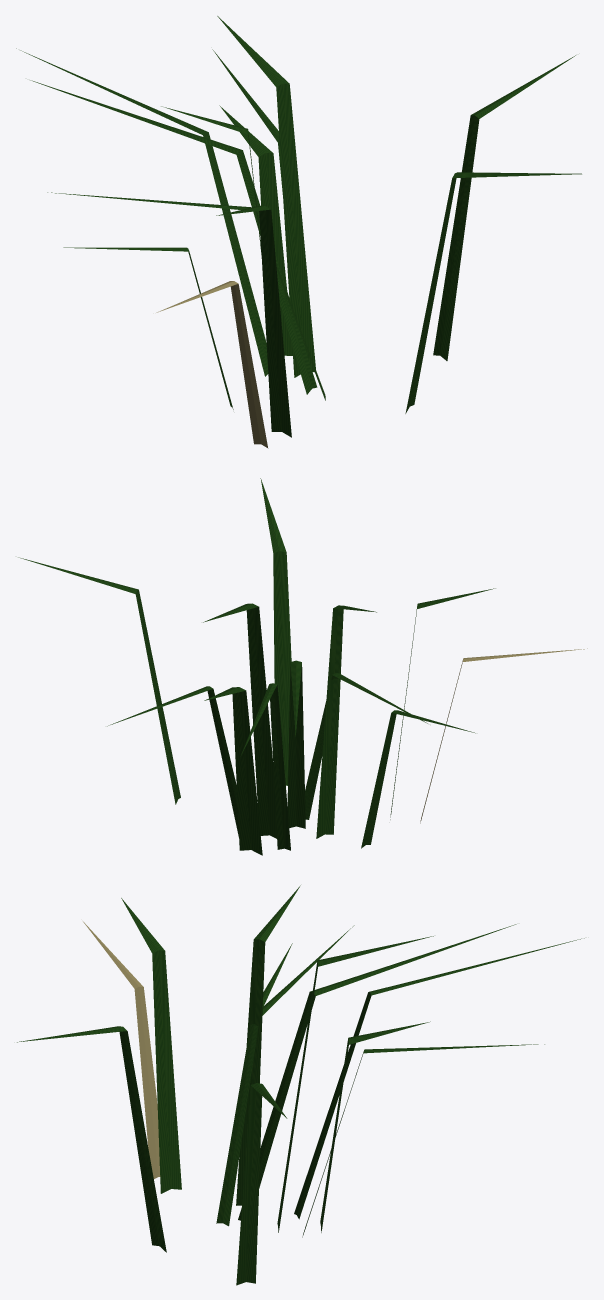
The model's file is Woodland_Grass_Tuft_01_LOD2.fbx.
3 views of the same model, one above another, from view 1: azimuth 30°, elevation 25°; view 2: azimuth 150°, elevation 25°; view 3: azimuth 270°, elevation 25° (orthographic). The views are drawn at different scales.
Visible parts, largest first — view 1: Woodland_Grass_Tuft_01_LOD2_Foliage; view 2: Woodland_Grass_Tuft_01_LOD2_Foliage; view 3: Woodland_Grass_Tuft_01_LOD2_Foliage.
Boxes of the visible parts, x1=… form: Woodland_Grass_Tuft_01_LOD2_Foliage: x1=16, y1=16, x2=581, y2=448; Woodland_Grass_Tuft_01_LOD2_Foliage: x1=18, y1=478, x2=587, y2=855; Woodland_Grass_Tuft_01_LOD2_Foliage: x1=17, y1=885, x2=584, y2=1285.
Bounding box in the file's own units: 60.68 × 32.82 × 58.95.
Materials: 2 (1 with a texture image).
